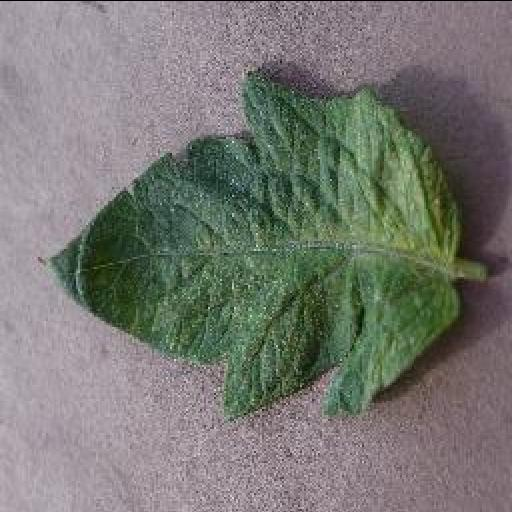disease_tomato: (34, 70, 464, 424)
